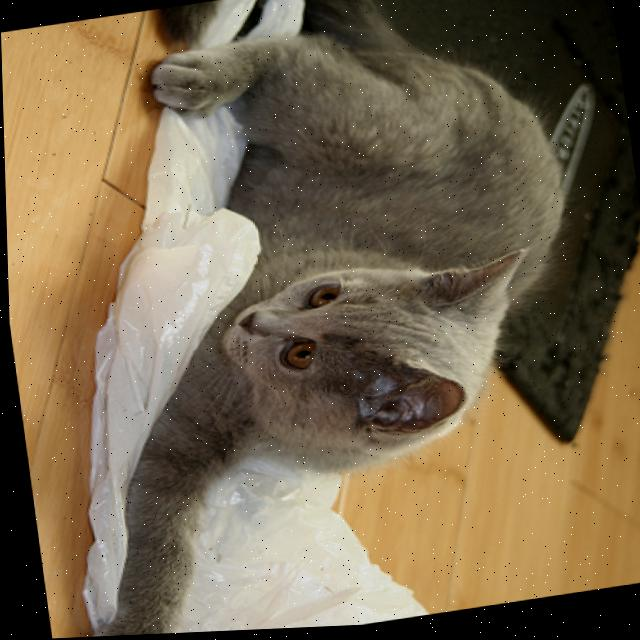British Shorthair: (0, 0, 620, 640)
